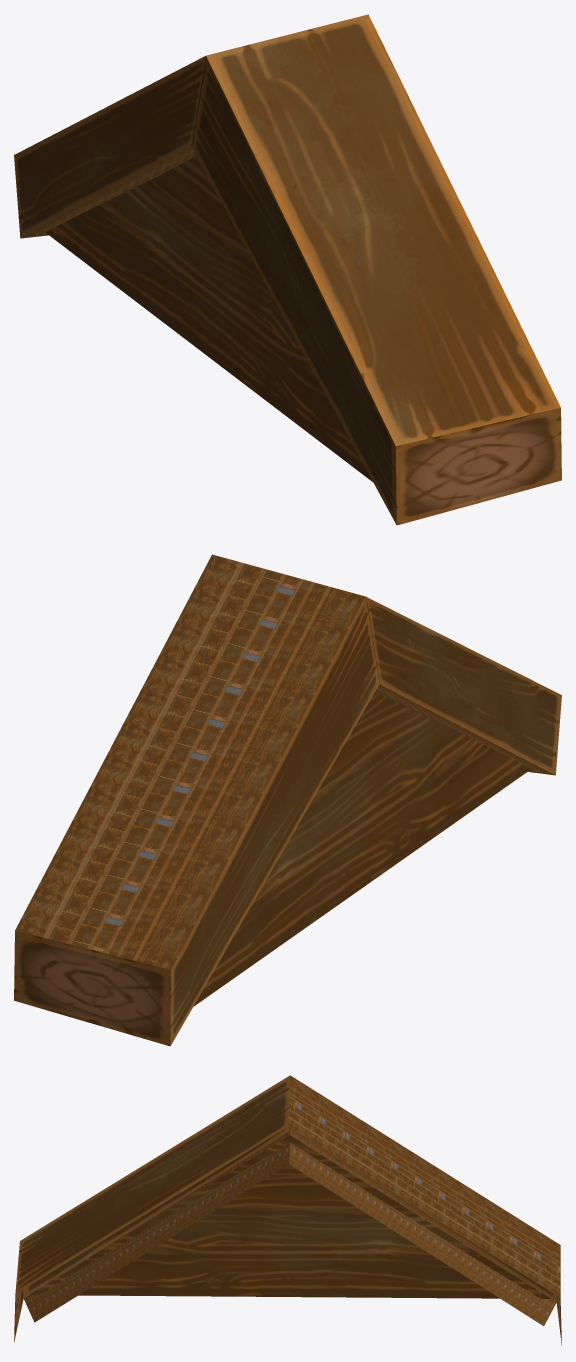
The picture shows the model from 3 angles, top to bottom: view 1: azimuth 30°, elevation 25°; view 2: azimuth 150°, elevation 25°; view 3: azimuth 270°, elevation 25°; orthographic projection. The views are drawn at different scales.
Visible parts, largest first — view 1: Cube.792; view 2: Cube.792; view 3: Cube.792.
Part boxes in pixels (left/top/right/bottom): Cube.792: left=14, top=14, right=561, bottom=525; Cube.792: left=14, top=554, right=561, bottom=1046; Cube.792: left=14, top=1075, right=561, bottom=1345.
Size of the model in its own units: 50.14 by 87.51 by 191.
Materials: 1 (1 with a texture image).
